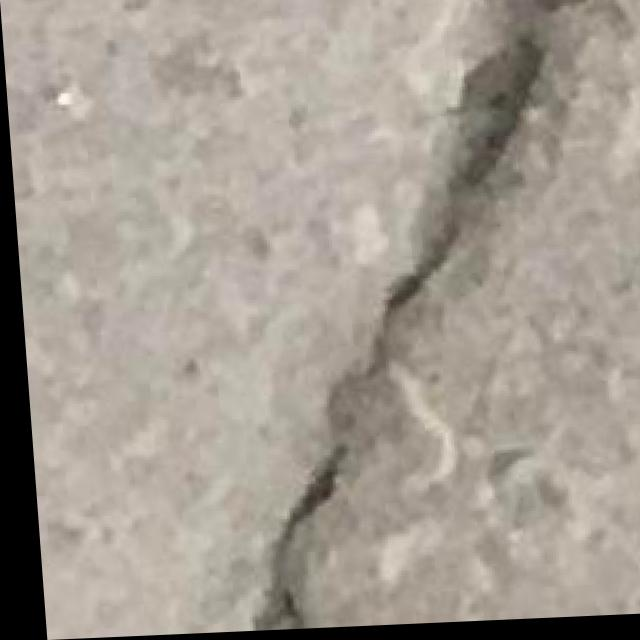Crack: (198, 0, 640, 633)
